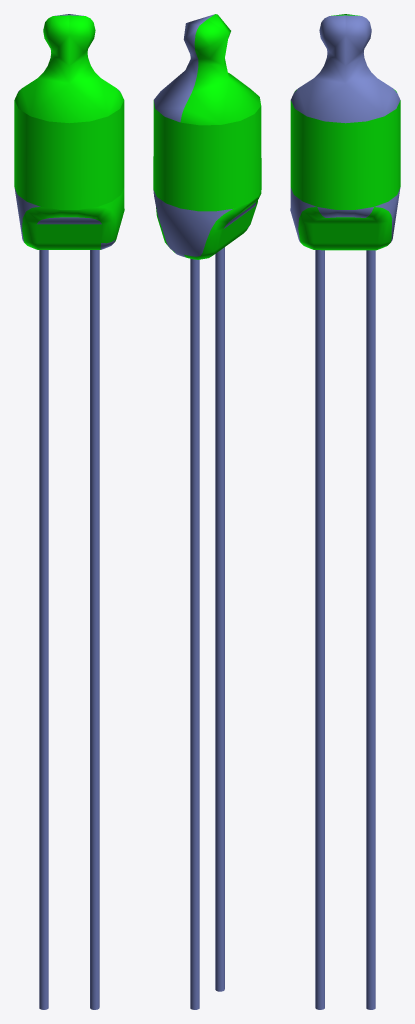
File: lightbulb.fbx
The picture shows the model from 3 angles, left to right: view 1: azimuth 90°, elevation 25°; view 2: azimuth 150°, elevation 25°; view 3: azimuth 270°, elevation 25°; orthographic projection.
Visible parts, largest first — view 1: NeonBulbGreen4x10; view 2: NeonBulbGreen4x10; view 3: NeonBulbGreen4x10.
Part boxes in pixels (box(x1,y1,x2,y2)): NeonBulbGreen4x10: box(14, 14, 124, 1009); NeonBulbGreen4x10: box(153, 14, 261, 1009); NeonBulbGreen4x10: box(290, 14, 400, 1009).
Size of the model in its own units: 0.4 by 3.99 by 0.4009.
